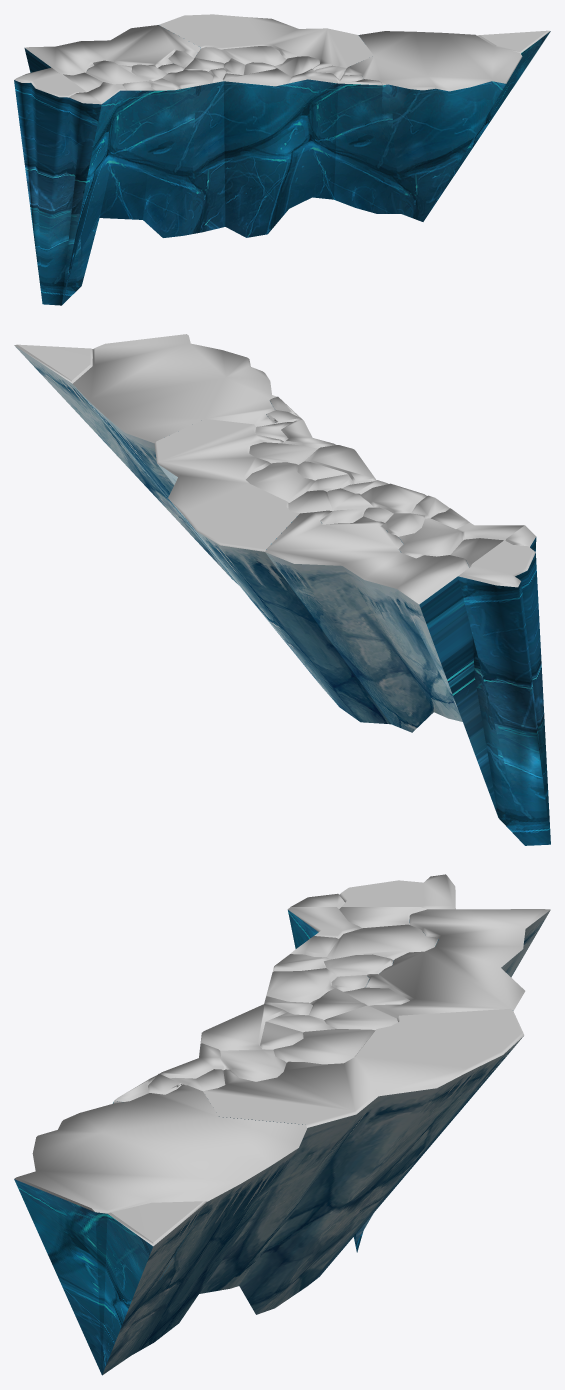
The model's file is IceEdge4.fbx.
3 views of the same model, one above another, from view 1: azimuth 30°, elevation 25°; view 2: azimuth 150°, elevation 25°; view 3: azimuth 270°, elevation 25° (orthographic). The views are drawn at different scales.
Visible parts, largest first — view 1: icecrownraid_arthas_precipice_phase1_quad4; view 2: icecrownraid_arthas_precipice_phase1_quad4; view 3: icecrownraid_arthas_precipice_phase1_quad4.
Boxes of the visible parts, x1,y1,x2,y2 form: icecrownraid_arthas_precipice_phase1_quad4: [14, 14, 550, 305]; icecrownraid_arthas_precipice_phase1_quad4: [14, 334, 550, 845]; icecrownraid_arthas_precipice_phase1_quad4: [14, 874, 550, 1375].
Bounding box in the file's own units: 8092 × 3681 × 4901.
